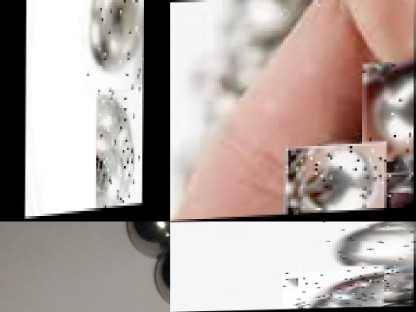ironball: (285, 142, 386, 215), (94, 85, 143, 211), (320, 221, 415, 283), (83, 0, 143, 91), (362, 61, 415, 163), (282, 270, 399, 309), (123, 224, 170, 254), (381, 163, 413, 202), (151, 251, 168, 303)
